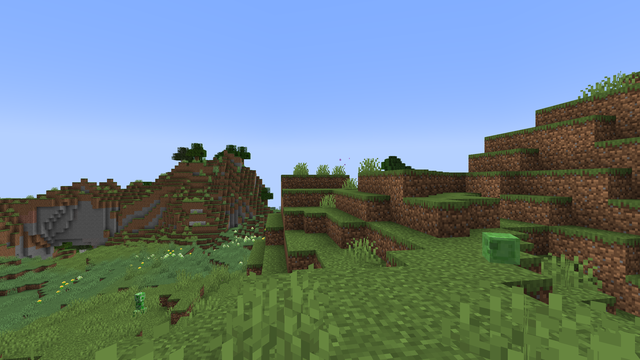creepers: (133, 290, 145, 315)
slimes: (478, 231, 522, 264)
